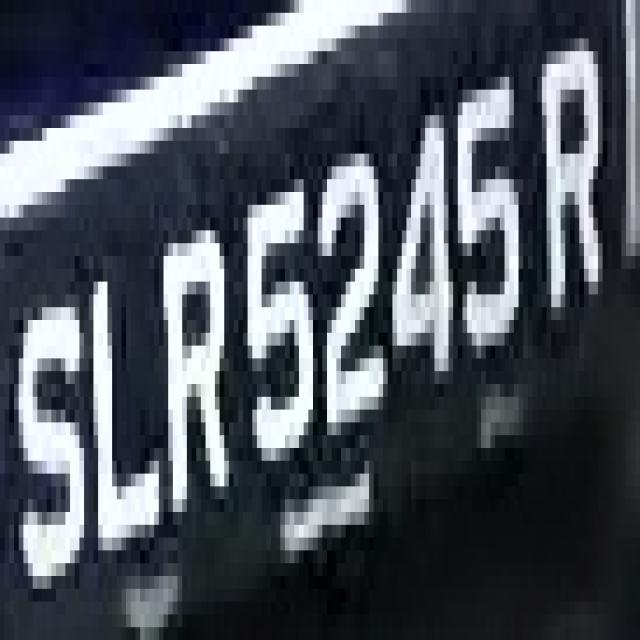2: (313, 90, 388, 487)
4: (388, 64, 462, 397)
5: (448, 39, 532, 372), (238, 166, 313, 512)
L: (75, 244, 168, 550)
R: (528, 38, 621, 333), (154, 192, 229, 538)
S: (14, 256, 89, 602)
